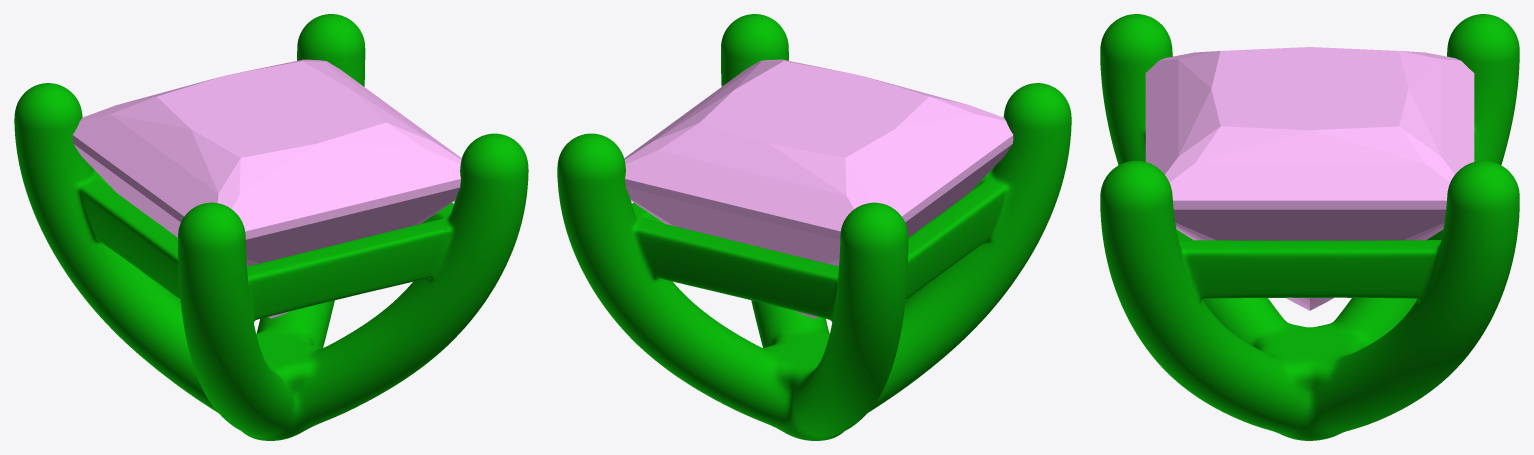
3 renders of one model, left to right at view 1: azimuth 30°, elevation 25°; view 2: azimuth 150°, elevation 25°; view 3: azimuth 270°, elevation 25°, orthographic. The views are drawn at different scales.
Parts seen in each view (by area): view 1: Metal01, Diamond_Princess; view 2: Metal01, Diamond_Princess; view 3: Metal01, Diamond_Princess.
Boxes of the visible parts, <box> form: Metal01: <box>14,14,528,440</box>; Diamond_Princess: <box>72,59,461,318</box>; Metal01: <box>557,14,1071,440</box>; Diamond_Princess: <box>624,59,1013,318</box>; Metal01: <box>1100,14,1519,440</box>; Diamond_Princess: <box>1145,47,1474,310</box>.
Size of the model in its own units: 6.38 by 5.74 by 6.38.
